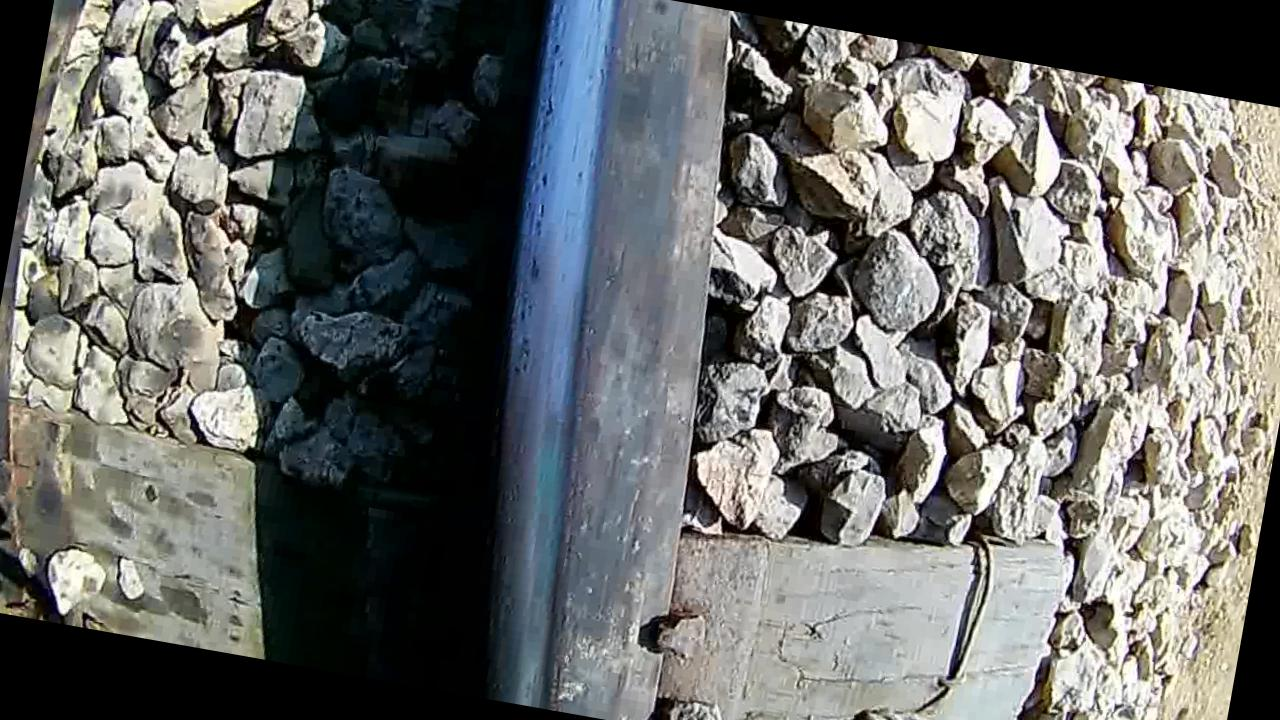crack: (428, 0, 747, 720)
